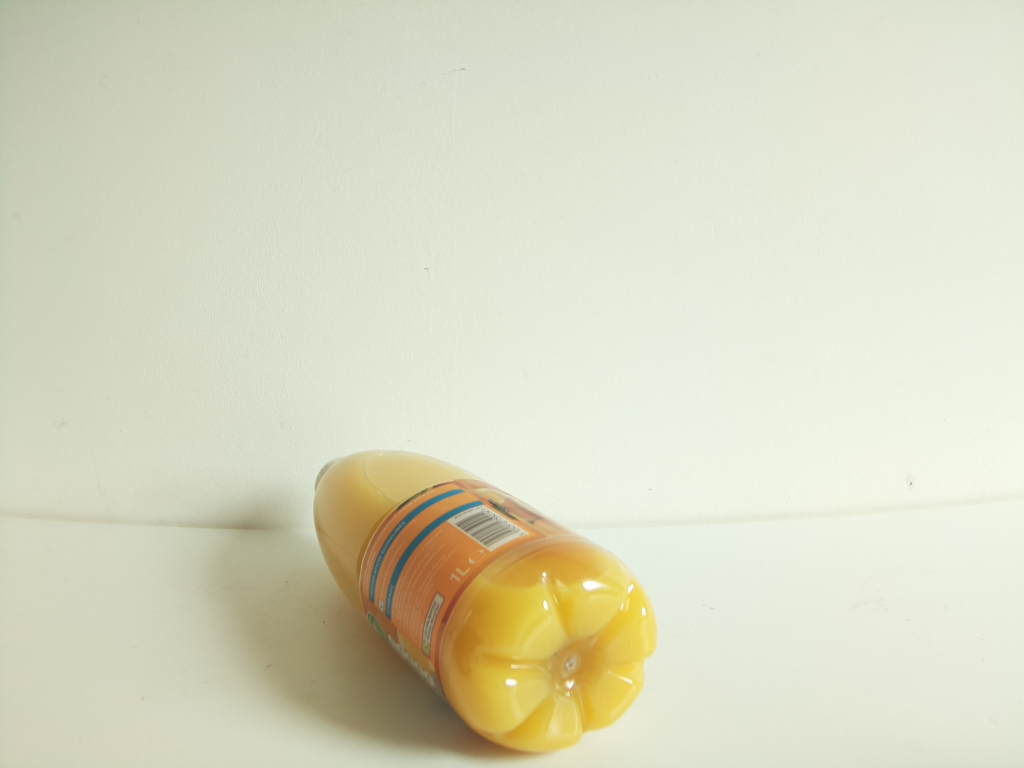juice: (312, 447, 666, 749)
